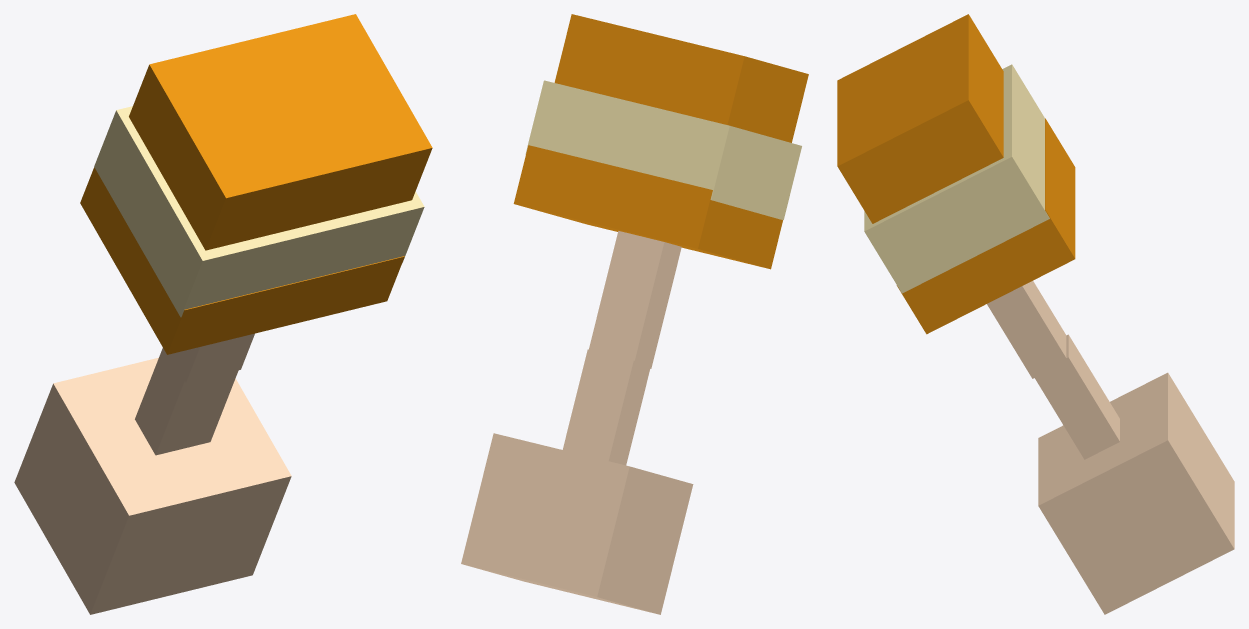
The model's file is phineas_rightarm.obj.
The picture shows the model from 3 angles, left to right: view 1: azimuth 30°, elevation 25°; view 2: azimuth 150°, elevation 25°; view 3: azimuth 270°, elevation 25°; orthographic projection. The views are drawn at different scales.
Visible parts, largest first — view 1: Cube_022_Cube_097, Cube_048_Cube_103, Cube_031_Cube_101, Cube_023_Cube_098, Cube_032_Cube_102, Cube_021_Cube_096; view 2: Cube_048_Cube_103, Cube_031_Cube_101, Cube_022_Cube_097, Cube_023_Cube_098, Cube_021_Cube_096, Cube_032_Cube_102; view 3: Cube_048_Cube_103, Cube_022_Cube_097, Cube_031_Cube_101, Cube_023_Cube_098, Cube_032_Cube_102, Cube_021_Cube_096.
Part boxes in pixels (box(x1,y1,x2,y2)): Cube_022_Cube_097: box(129, 14, 432, 250); Cube_048_Cube_103: box(14, 357, 291, 614); Cube_031_Cube_101: box(94, 106, 424, 317); Cube_023_Cube_098: box(80, 167, 404, 354); Cube_032_Cube_102: box(135, 348, 238, 455); Cube_021_Cube_096: box(171, 333, 254, 382); Cube_048_Cube_103: box(461, 433, 693, 614); Cube_031_Cube_101: box(525, 80, 801, 220); Cube_022_Cube_097: box(554, 14, 808, 142); Cube_023_Cube_098: box(513, 145, 782, 269); Cube_021_Cube_096: box(589, 231, 681, 368); Cube_032_Cube_102: box(562, 349, 649, 465); Cube_048_Cube_103: box(1038, 372, 1234, 614); Cube_022_Cube_097: box(837, 14, 1003, 223); Cube_031_Cube_101: box(864, 64, 1049, 293); Cube_023_Cube_098: box(896, 118, 1075, 334); Cube_032_Cube_102: box(1035, 334, 1119, 459); Cube_021_Cube_096: box(987, 281, 1067, 378).
Size of the model in its own units: 1.79 by 4.74 by 3.25.
